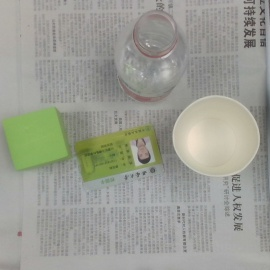bottle: (110, 11, 188, 102)
card: (74, 124, 167, 188)
cup: (171, 96, 260, 180)
